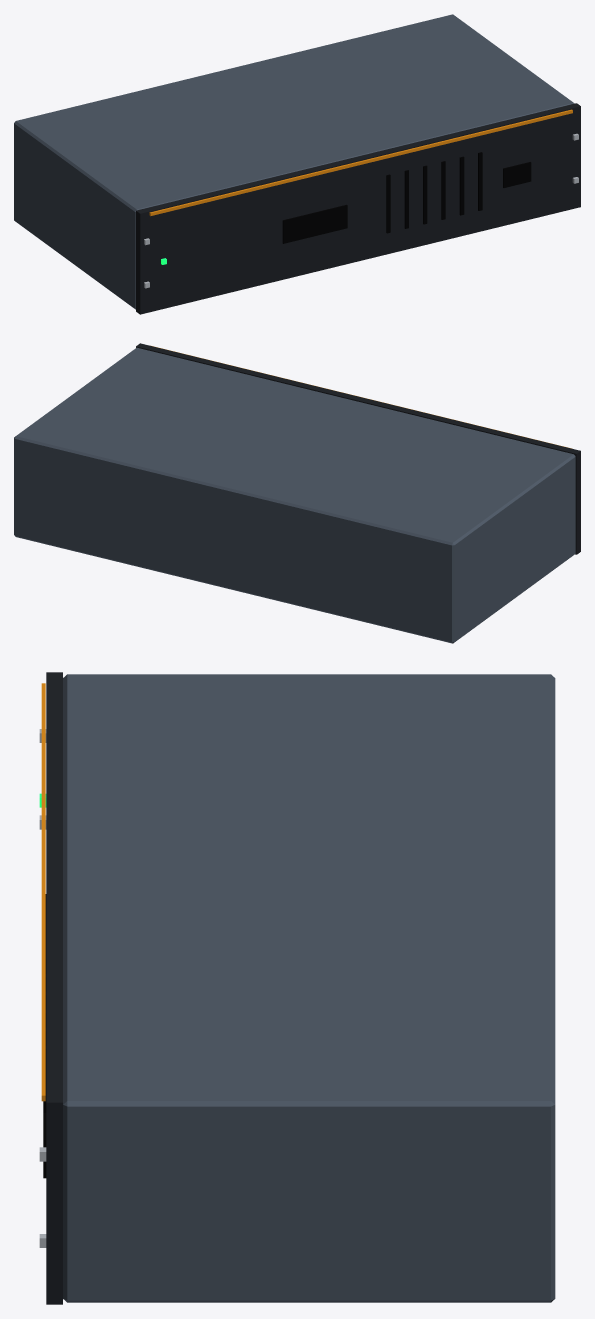
Rendered from router_2port.glb.
3 views of the same model, one above another, from view 1: azimuth 30°, elevation 25°; view 2: azimuth 150°, elevation 25°; view 3: azimuth 270°, elevation 25° (orthographic). The views are drawn at different scales.
Visible parts, largest first — view 1: Router2Port; view 2: Router2Port; view 3: Router2Port.
Part boxes in pixels (box(x1,y1,x2,y2)): Router2Port: box(14, 14, 580, 314); Router2Port: box(14, 343, 580, 643); Router2Port: box(39, 672, 555, 1304).
Bounding box in the file's own units: 0.48 × 0.105 × 0.243.
